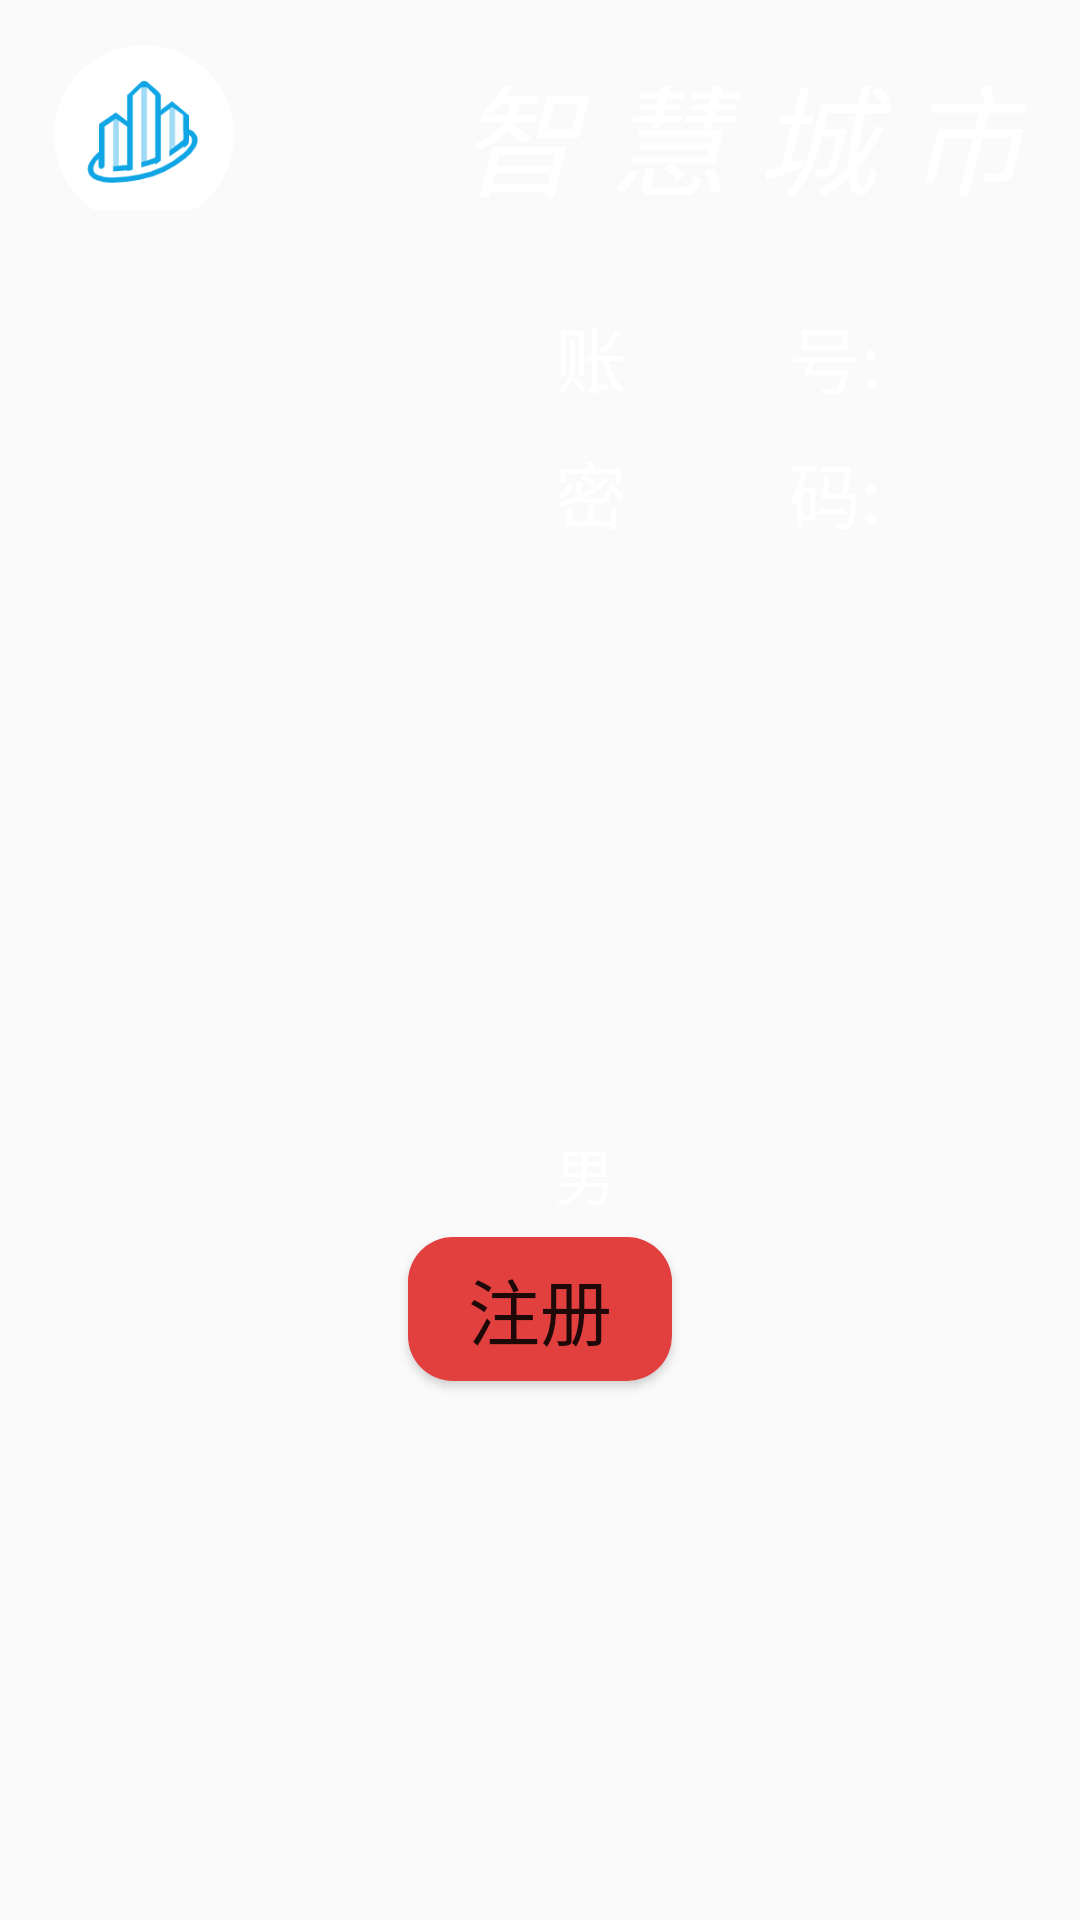

Icons on this 1080px x 1920px Android screen, each with its box as [left=x1, top=y1, right=x2, bottom=y2]:
city: [left=87, top=81, right=198, bottom=183]
